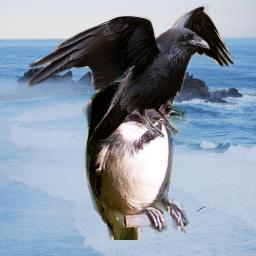Crow: (26, 5, 235, 141)
Swallow: (82, 75, 192, 240)
